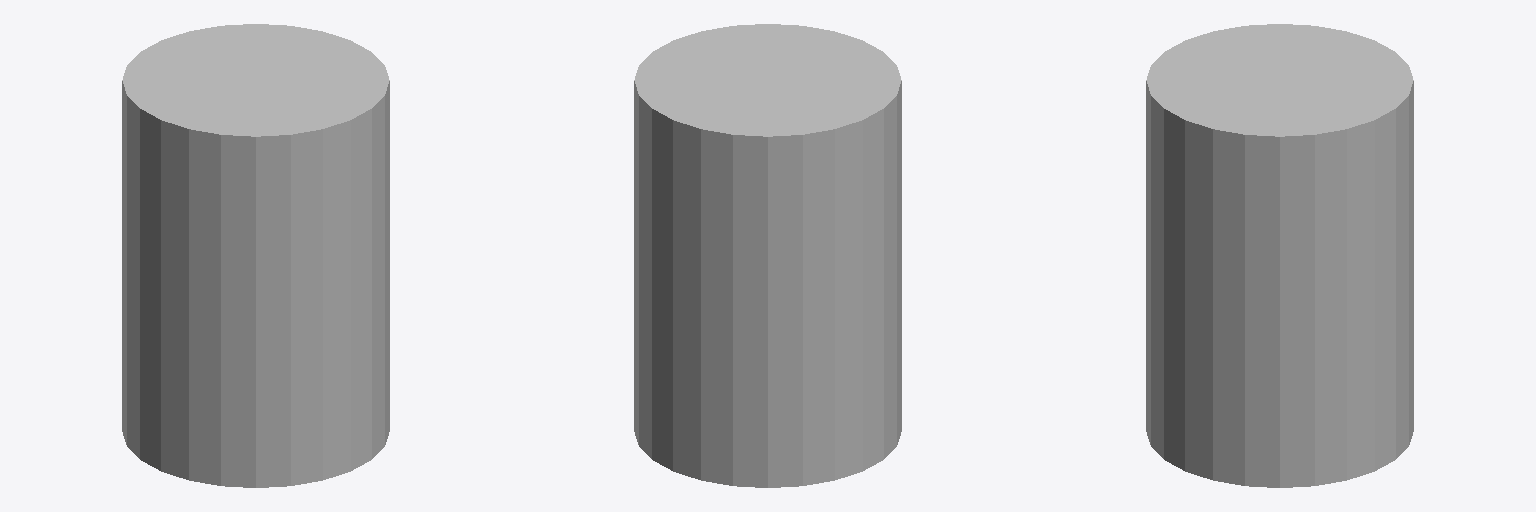
The model's file is original-18.obj.
3 renders of one model, left to right at view 1: azimuth 30°, elevation 25°; view 2: azimuth 150°, elevation 25°; view 3: azimuth 270°, elevation 25°, orthographic.
Visible parts, largest first — view 1: mesh55/mesh55-geometry#mesh55-geometry; view 2: mesh55/mesh55-geometry#mesh55-geometry; view 3: mesh55/mesh55-geometry#mesh55-geometry.
Part boxes in pixels (x1,y1,x2,y2): mesh55/mesh55-geometry#mesh55-geometry: (122,24,389,487); mesh55/mesh55-geometry#mesh55-geometry: (634,24,901,487); mesh55/mesh55-geometry#mesh55-geometry: (1146,24,1413,487).
Bounding box in the file's own units: 0.0087 × 0.0125 × 0.0087.